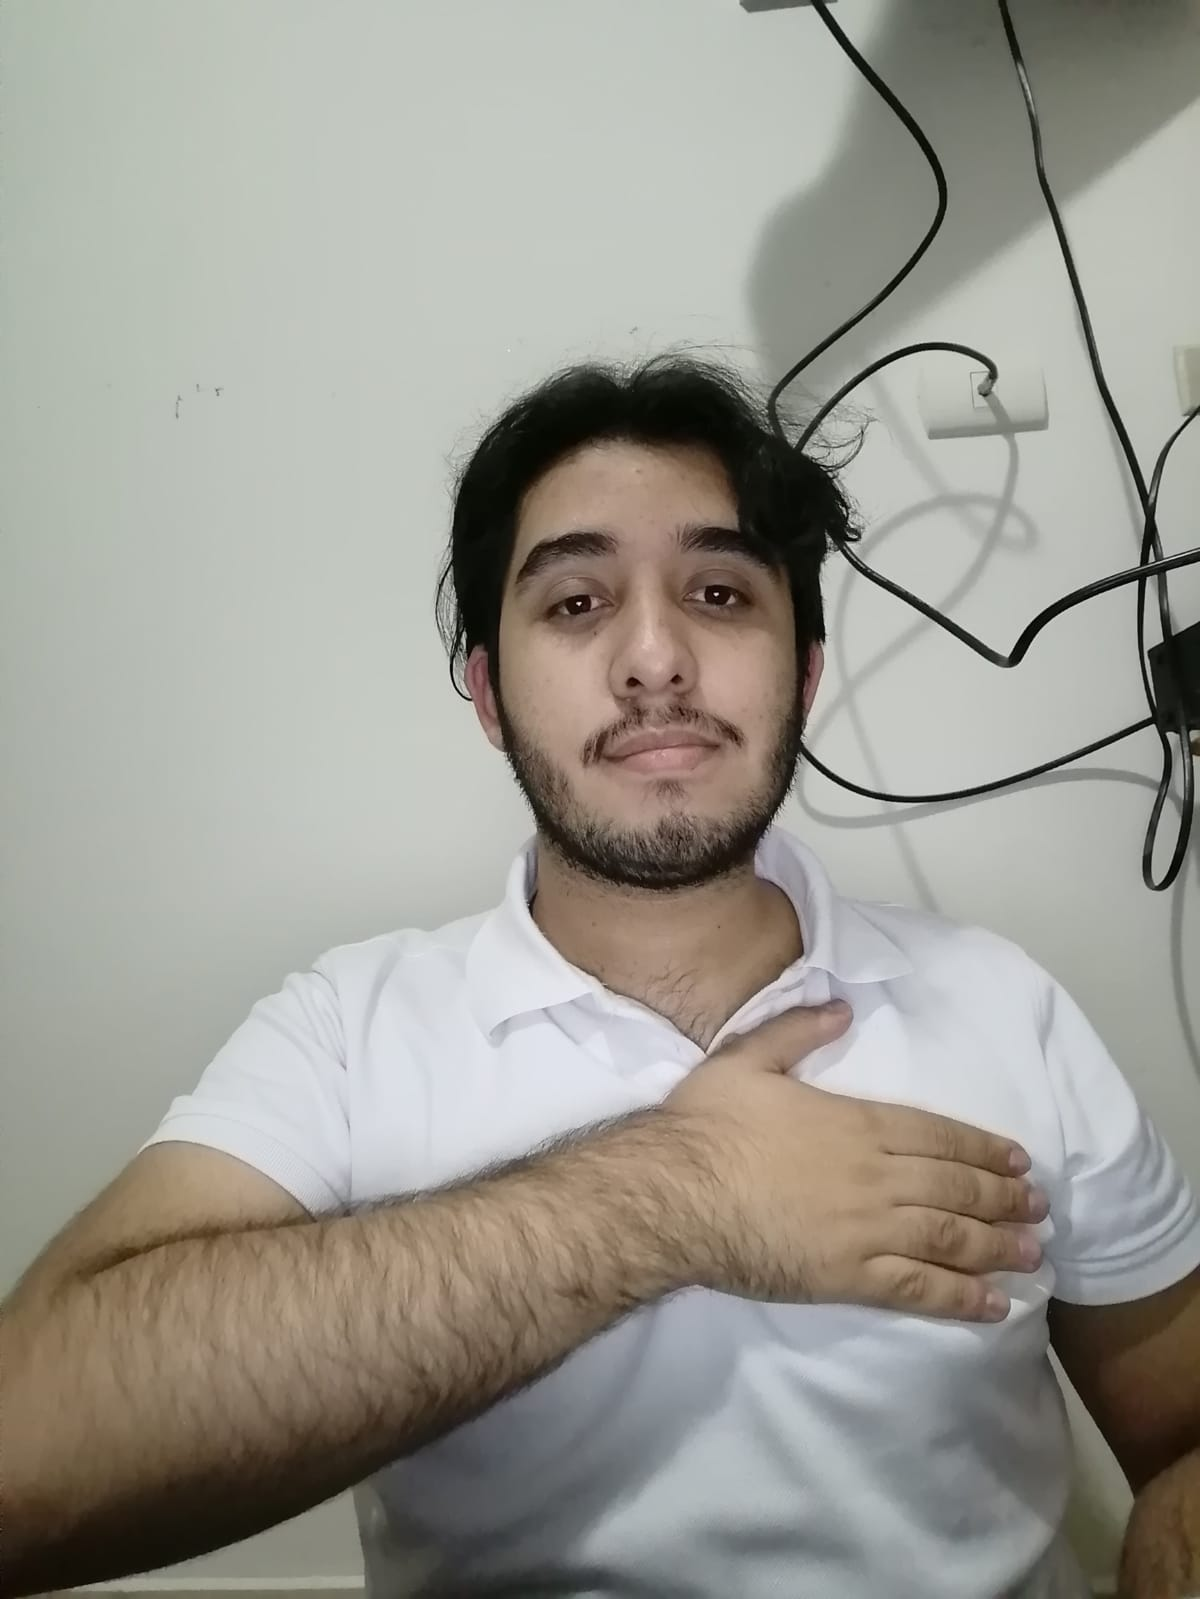Please: (440, 987, 1063, 1407)
